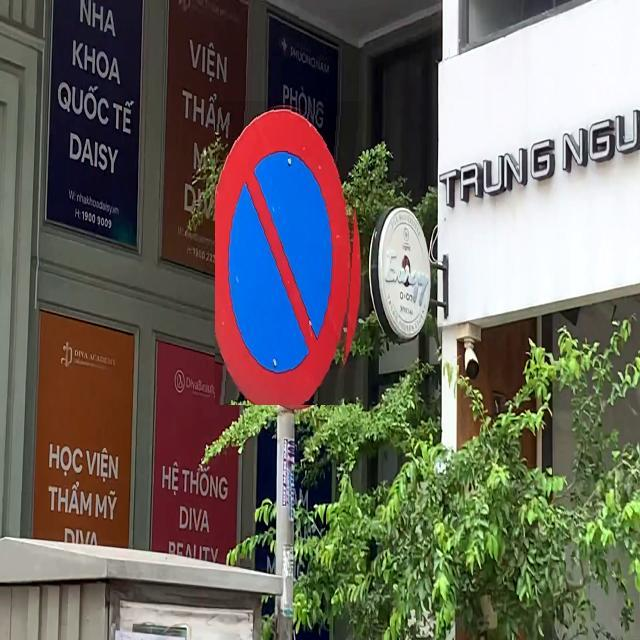P-131a: (215, 101, 362, 405)
